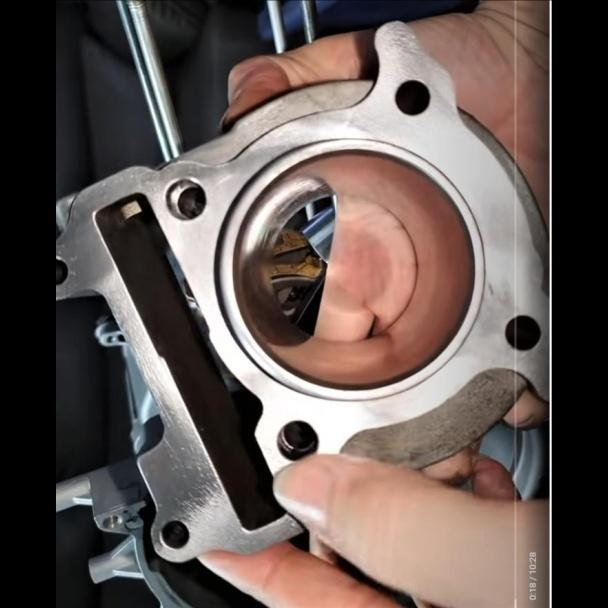hole: (276, 416, 321, 465), (164, 175, 209, 220), (392, 73, 434, 115), (503, 310, 543, 350)
